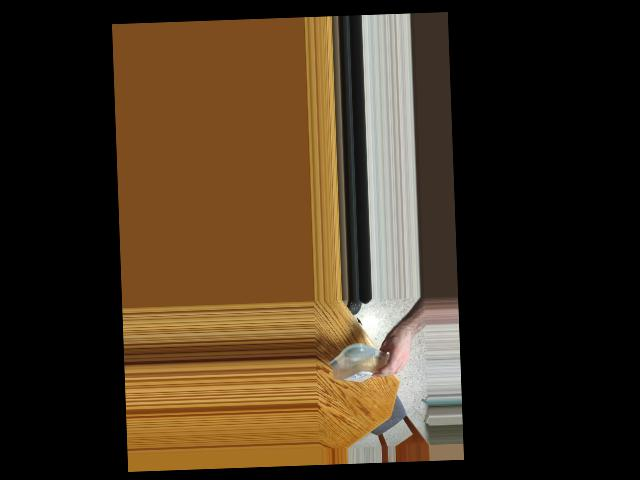cheese: (328, 344, 401, 384)
